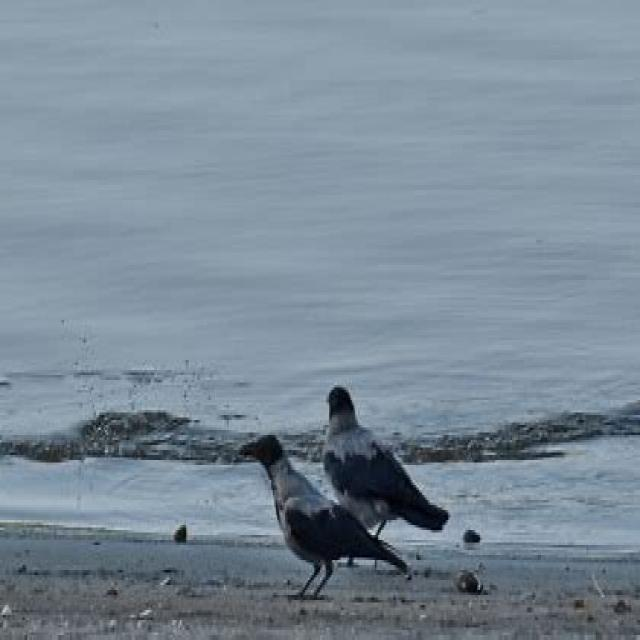crow: (238, 436, 410, 605), (324, 387, 446, 551)
